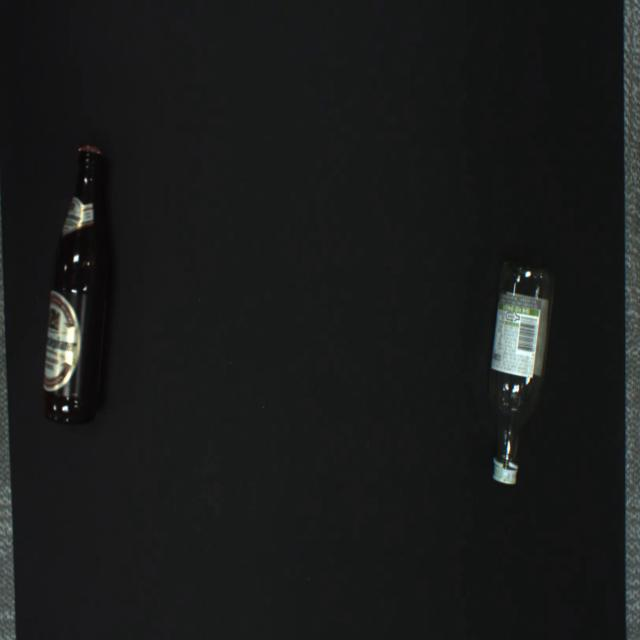beer-bottle: (43, 144, 110, 424)
soju-bottle: (488, 261, 556, 484)
